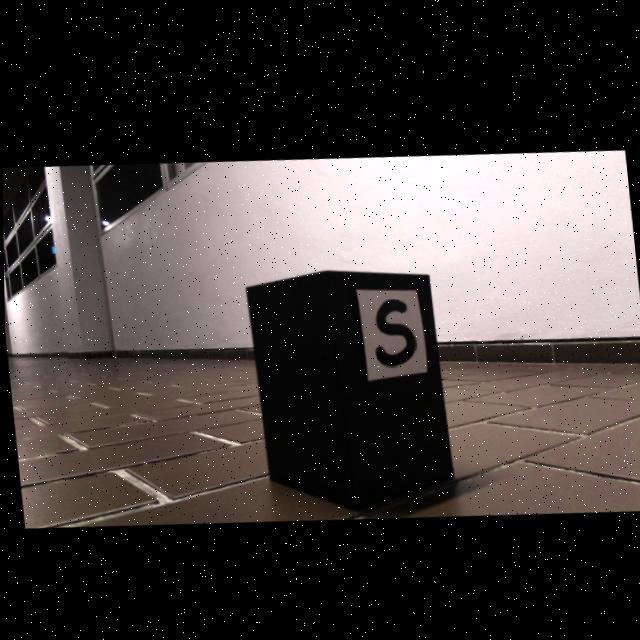S: (373, 295, 415, 362)
